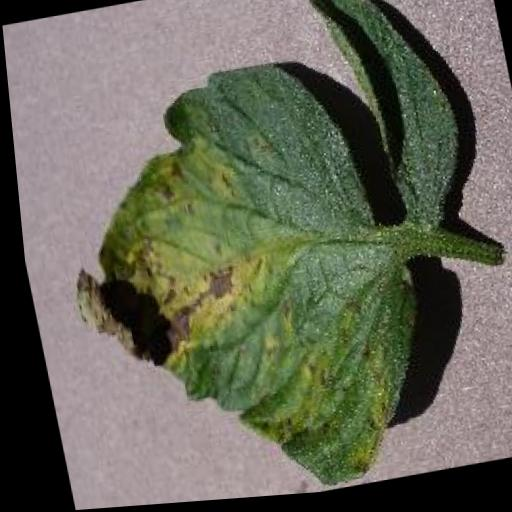Septoria: (31, 51, 434, 511)
